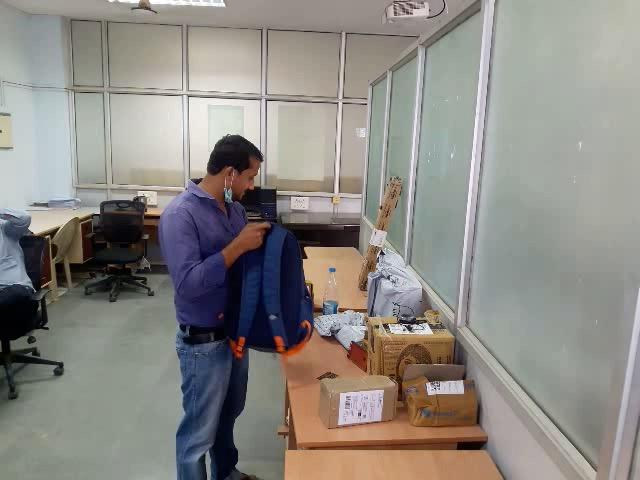shoplifting: (127, 198, 396, 364)
